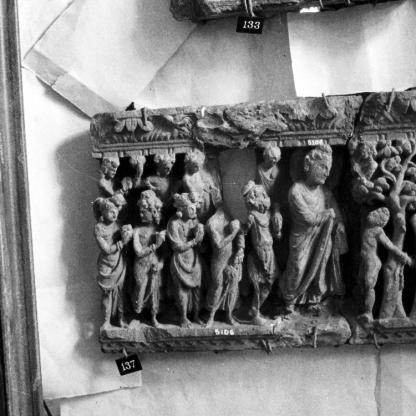buddha-standing: (284, 140, 353, 322)
